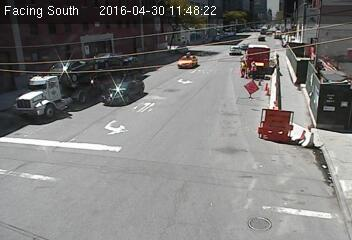neg: (221, 98, 249, 136), (273, 123, 291, 146), (179, 51, 193, 70), (135, 76, 142, 86)
pos: (236, 58, 251, 79)
